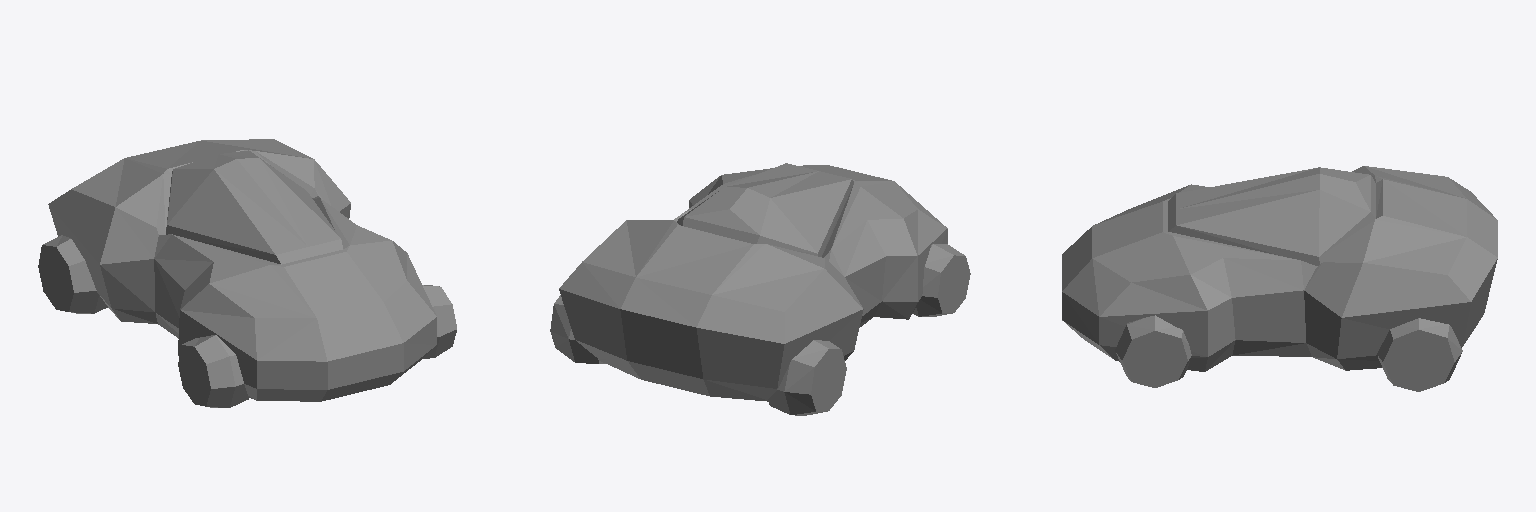
Rendered from buggy.obj.
3 renders of one model, left to right at view 1: azimuth 30°, elevation 25°; view 2: azimuth 150°, elevation 25°; view 3: azimuth 270°, elevation 25°, orthographic.
Parts seen in each view (by area): view 1: chest_Mesh.011, wheels1_Mesh.013, wheels3_Mesh.012, wheels2_Mesh.014; view 2: chest_Mesh.011, wheels3_Mesh.012, wheels1_Mesh.013, wheels4_Mesh.015; view 3: chest_Mesh.011, wheels4_Mesh.015, wheels2_Mesh.014.
Part boxes in pixels (bbox=[...]): chest_Mesh.011: bbox=[48, 139, 436, 401]; wheels1_Mesh.013: bbox=[178, 335, 248, 407]; wheels3_Mesh.012: bbox=[38, 235, 107, 313]; wheels2_Mesh.014: bbox=[423, 285, 456, 358]; chest_Mesh.011: bbox=[559, 163, 947, 401]; wheels3_Mesh.012: bbox=[768, 340, 846, 415]; wheels1_Mesh.013: bbox=[912, 244, 970, 316]; wheels4_Mesh.015: bbox=[550, 295, 605, 363]; chest_Mesh.011: bbox=[1062, 166, 1497, 371]; wheels4_Mesh.015: bbox=[1377, 318, 1462, 391]; wheels2_Mesh.014: bbox=[1115, 315, 1191, 387].
Size of the model in its own units: 0.3441 by 0.2081 by 0.4982.